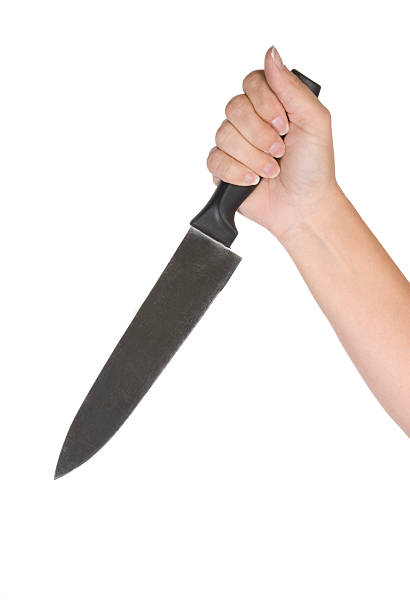knife: (50, 65, 321, 484)
